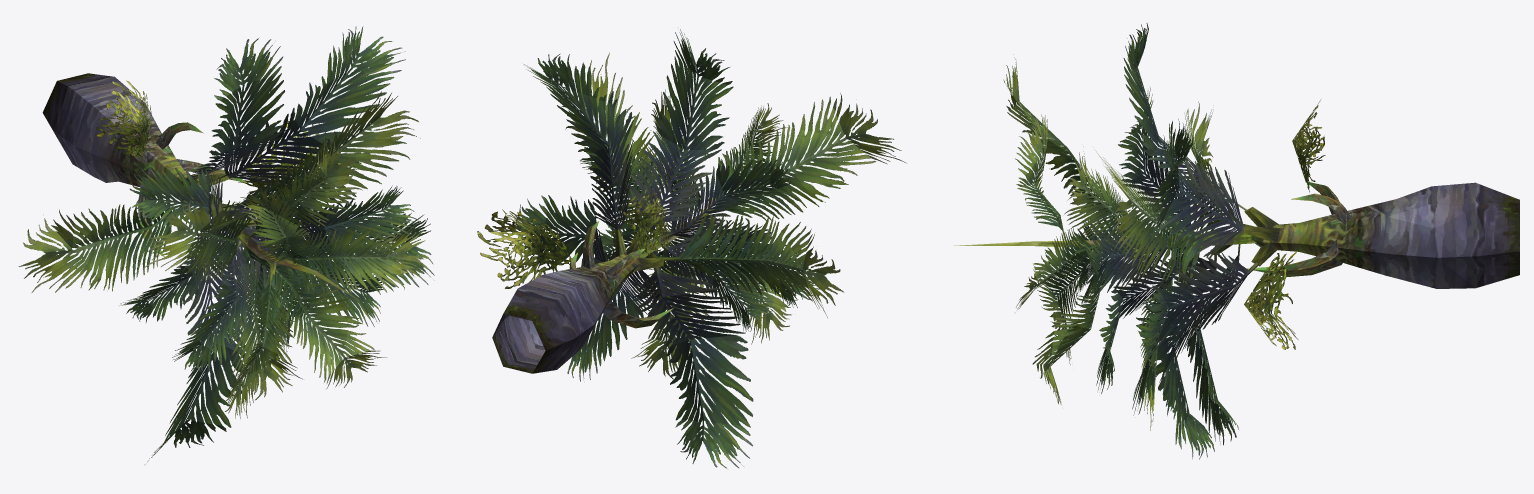
Rendered from rdzw_qm_c_jiupingyezi.obj.
The picture shows the model from 3 angles, left to right: view 1: azimuth 30°, elevation 25°; view 2: azimuth 150°, elevation 25°; view 3: azimuth 270°, elevation 25°; orthographic projection. The views are drawn at different scales.
Parts seen in each view (by area): view 1: rdzw_qm_c_jiupingyezi; view 2: rdzw_qm_c_jiupingyezi; view 3: rdzw_qm_c_jiupingyezi.
Boxes of the visible parts, x1,y1,x2,y2 form: rdzw_qm_c_jiupingyezi: (18, 26, 434, 464); rdzw_qm_c_jiupingyezi: (477, 29, 906, 468); rdzw_qm_c_jiupingyezi: (954, 23, 1519, 459).
Bounding box in the file's own units: 171 × 185 × 204.
